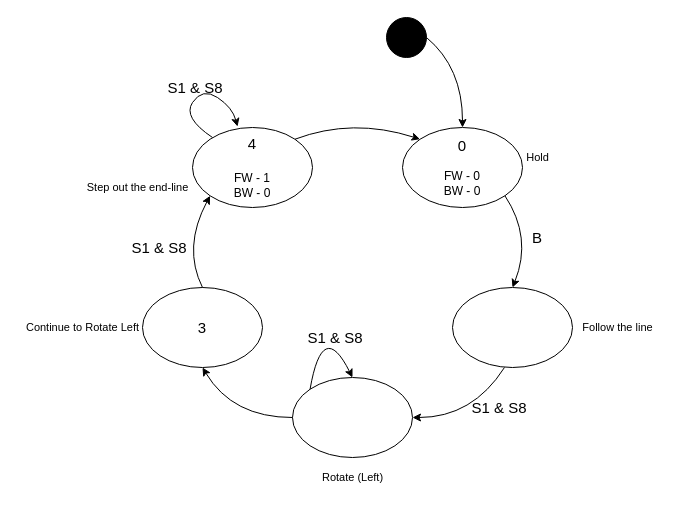
Image size: 679x505. Some labels were removed from this diagram. Here are the shapes that lost their labels. From the top down, the centre of each, then its label:
the point at 512,327: 1 FW - 1 BW - 0
the point at 352,417: 2 FWR - 1 BWL - 1
